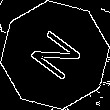N_SE: (23, 24, 87, 86)
